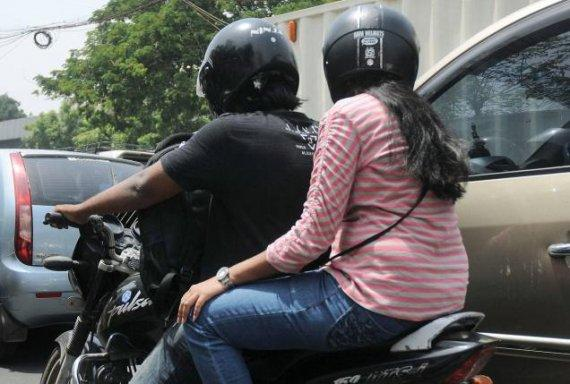Helmet: (199, 18, 301, 116), (320, 4, 420, 101)
